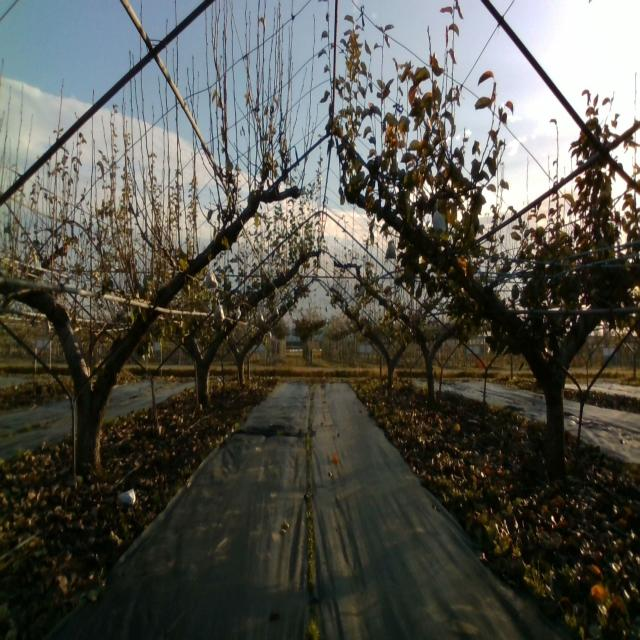pearbags: (431, 202, 446, 232), (204, 270, 217, 289), (213, 300, 224, 320)
